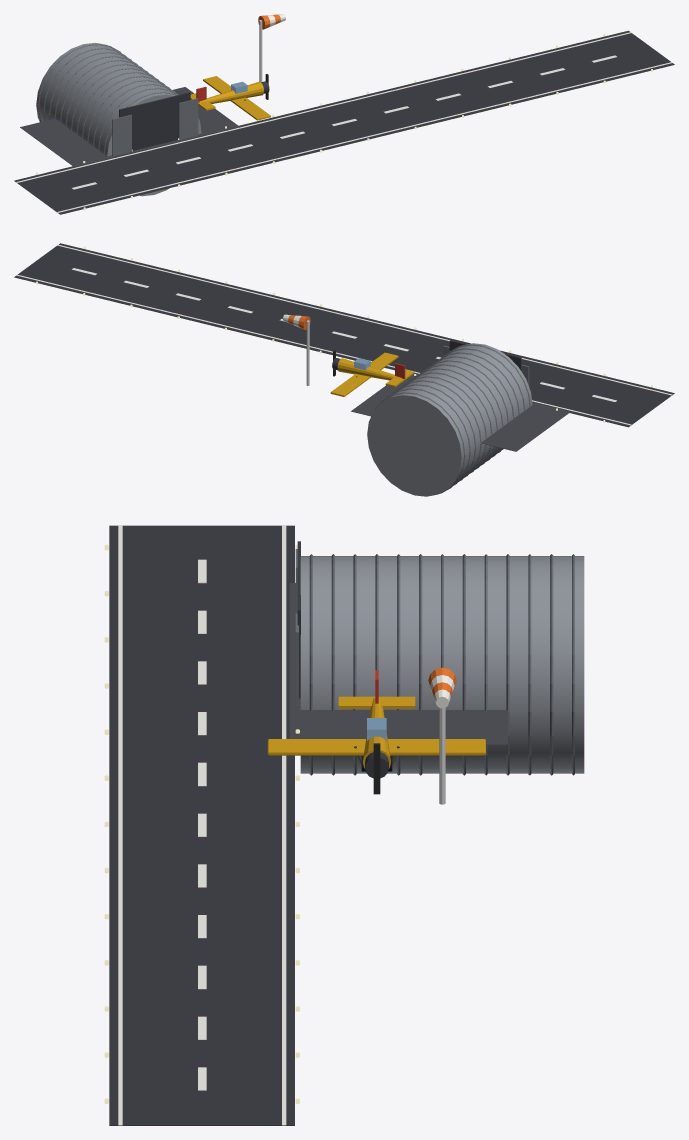
File: airfield.glb
3 views of the same model, one above another, from view 1: azimuth 30°, elevation 25°; view 2: azimuth 150°, elevation 25°; view 3: azimuth 270°, elevation 25° (orthographic). The views are drawn at different scales.
Parts seen in each view (by area): view 1: part-tarmac, part-hangar, part-paint, part-apron, part-hangar-rib, part-hangar-door, part-door-panel, part-plane; view 2: part-tarmac, part-hangar, part-hangar-rib, part-paint, part-apron, part-plane; view 3: part-tarmac, part-hangar, part-hangar-rib, part-paint, part-apron, part-plane.
Boxes of the visible parts, box(x1,y1,x2,y2) form: part-tarmac: box(14, 30, 674, 214); part-hangar: box(36, 42, 201, 196); part-paint: box(16, 14, 672, 212); part-apron: box(20, 87, 239, 166); part-hangar-rib: box(38, 43, 178, 154); part-hangar-door: box(119, 92, 190, 150); part-door-panel: box(112, 98, 198, 156); part-plane: box(190, 76, 270, 120); part-tarmac: box(14, 243, 674, 427); part-hangar: box(367, 343, 532, 496); part-hangar-rib: box(375, 344, 530, 493); part-paint: box(16, 244, 672, 425); part-apron: box(351, 373, 570, 451); part-plane: box(330, 352, 414, 396); part-tarmac: box(109, 525, 294, 1125); part-hangar: box(300, 556, 584, 773); part-hangar-rib: box(309, 554, 574, 775); part-paint: box(118, 525, 454, 1125); part-apron: box(289, 583, 507, 744); part-plane: box(267, 696, 485, 768).
Bounding box in the file's own units: 260 × 48 × 87.89.
